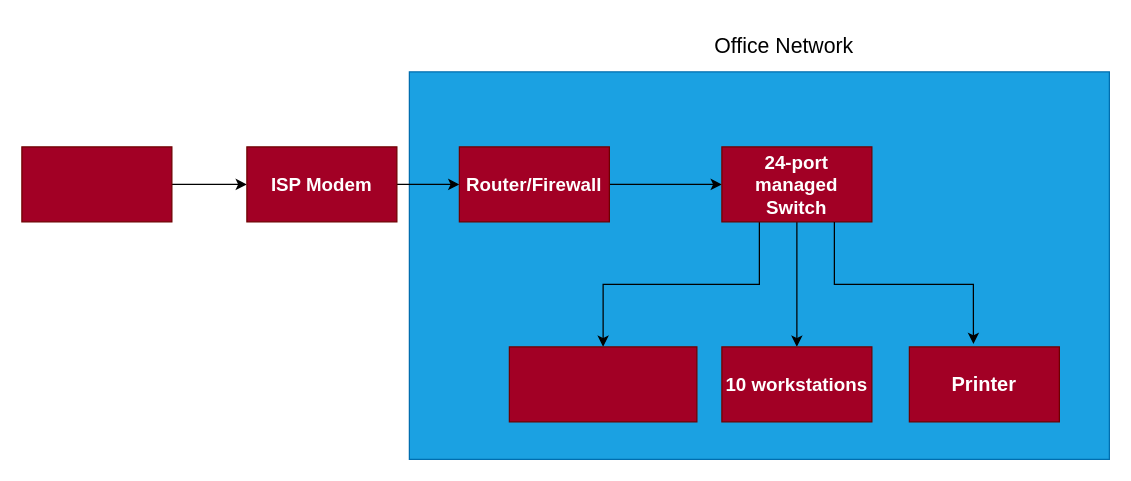
The diagram is 1131 pixels wide and 481 high, and some of its shapes have lost their labels. The shapes that lost their labels are listed below. From the top down, each one's centre as x and y in pixels, then its label:
At point (96, 184): "Internet".
At point (602, 384): "Server: File Storage and Active Directory".
